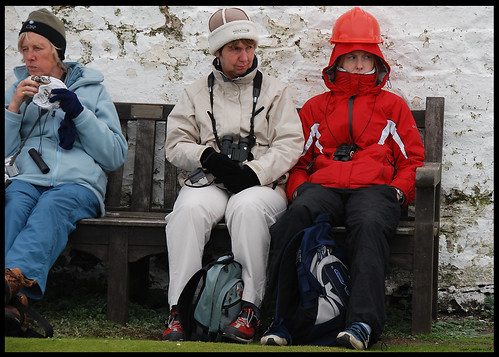person hardhat: (291, 7, 416, 355)
